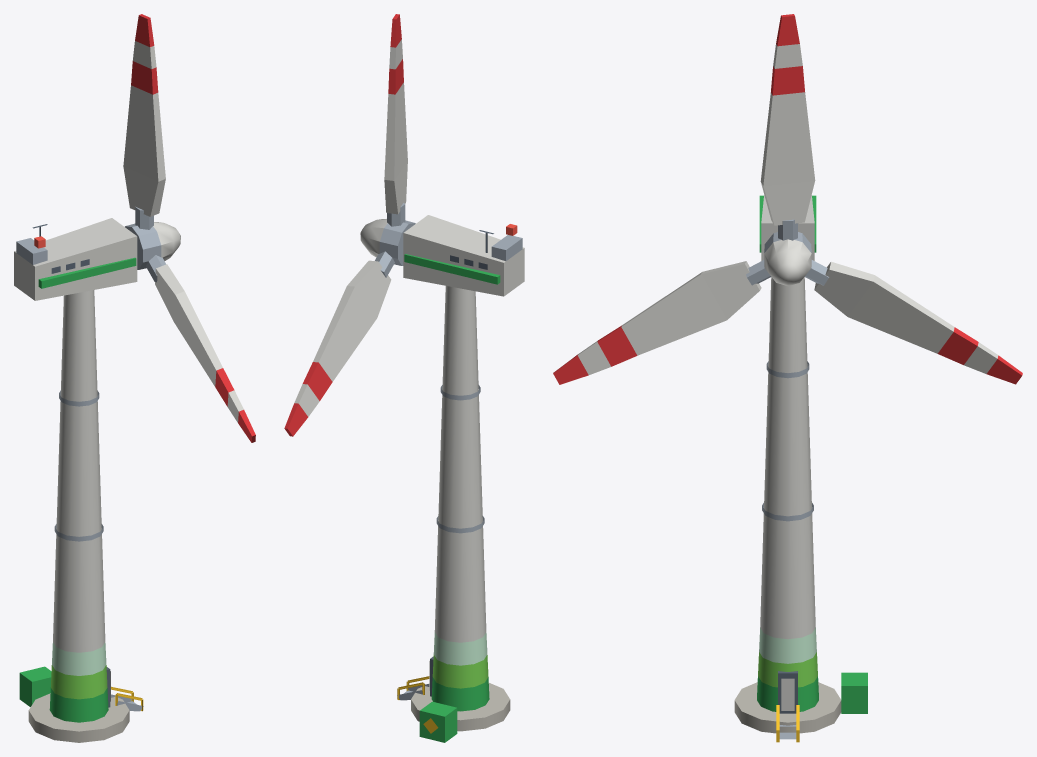
The model's file is wind_turbine.glb.
3 renders of one model, left to right at view 1: azimuth 30°, elevation 25°; view 2: azimuth 150°, elevation 25°; view 3: azimuth 270°, elevation 25°, orthographic. The views are drawn at different scales.
Visible parts, largest first — view 1: Body, Blades; view 2: Body, Blades; view 3: Blades, Body.
Part boxes in pixels (left/top/right/bottom): Body: left=14, top=218, right=143, bottom=742; Blades: left=123, top=14, right=255, bottom=442; Body: left=397, top=215, right=524, bottom=742; Blades: left=284, top=14, right=415, bottom=436; Blades: left=553, top=14, right=1022, bottom=384; Body: left=734, top=195, right=867, bottom=742.
Bounding box in the file's own units: 0.86 × 3.62 × 2.11.
